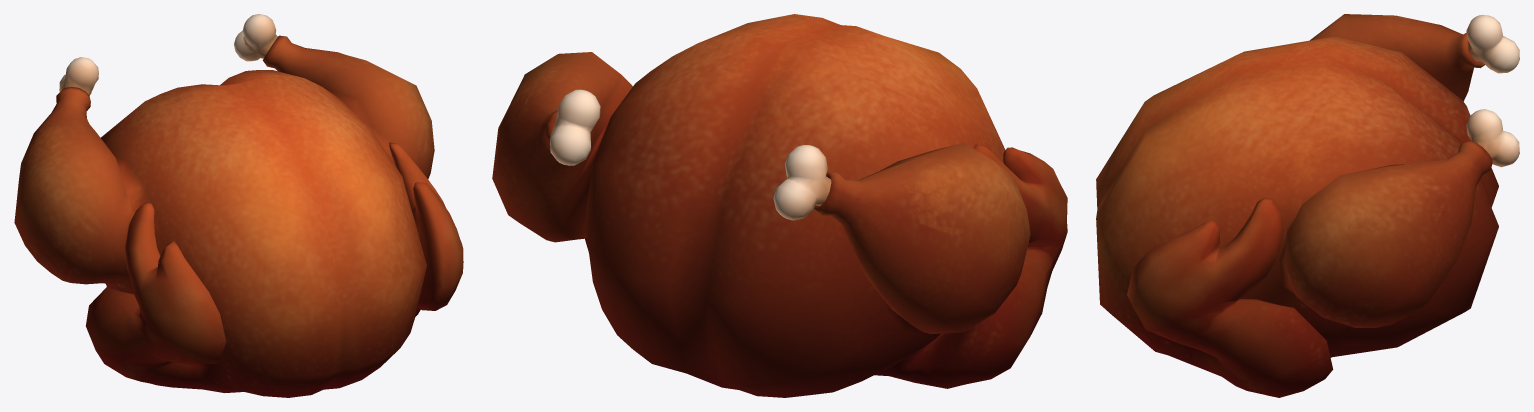
File: RoastedChicken.fbx
The picture shows the model from 3 angles, left to right: view 1: azimuth 30°, elevation 25°; view 2: azimuth 150°, elevation 25°; view 3: azimuth 270°, elevation 25°; orthographic projection. The views are drawn at different scales.
Visible parts, largest first — view 1: RoastedChicken; view 2: RoastedChicken; view 3: RoastedChicken.
Boxes of the visible parts, left/top/right/bottom form: RoastedChicken: left=14, top=14, right=463, bottom=397; RoastedChicken: left=492, top=14, right=1067, bottom=397; RoastedChicken: left=1096, top=14, right=1519, bottom=397.
Bounding box in the file's own units: 211 × 133 × 181.
